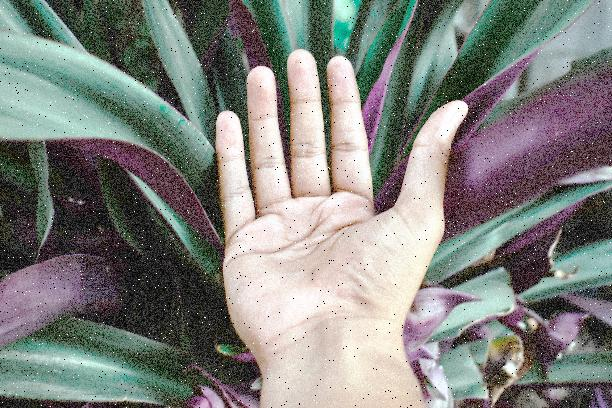Paper: (213, 46, 472, 356)
